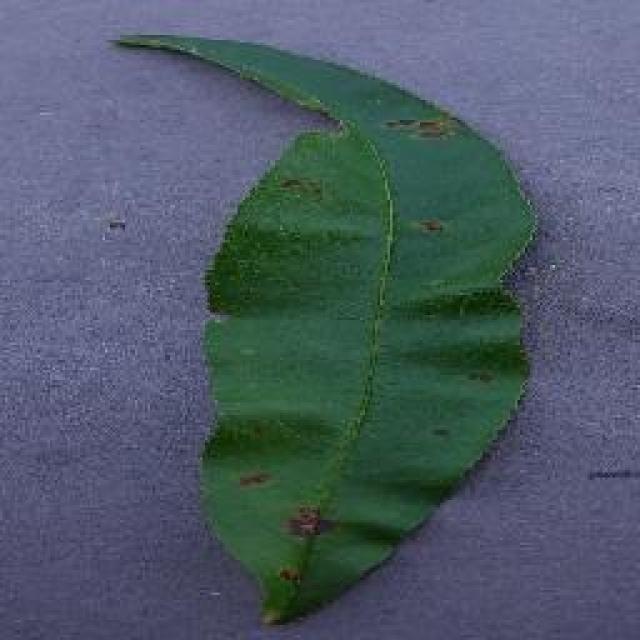Peach_Bacterial_Spot: (276, 73, 452, 555)
